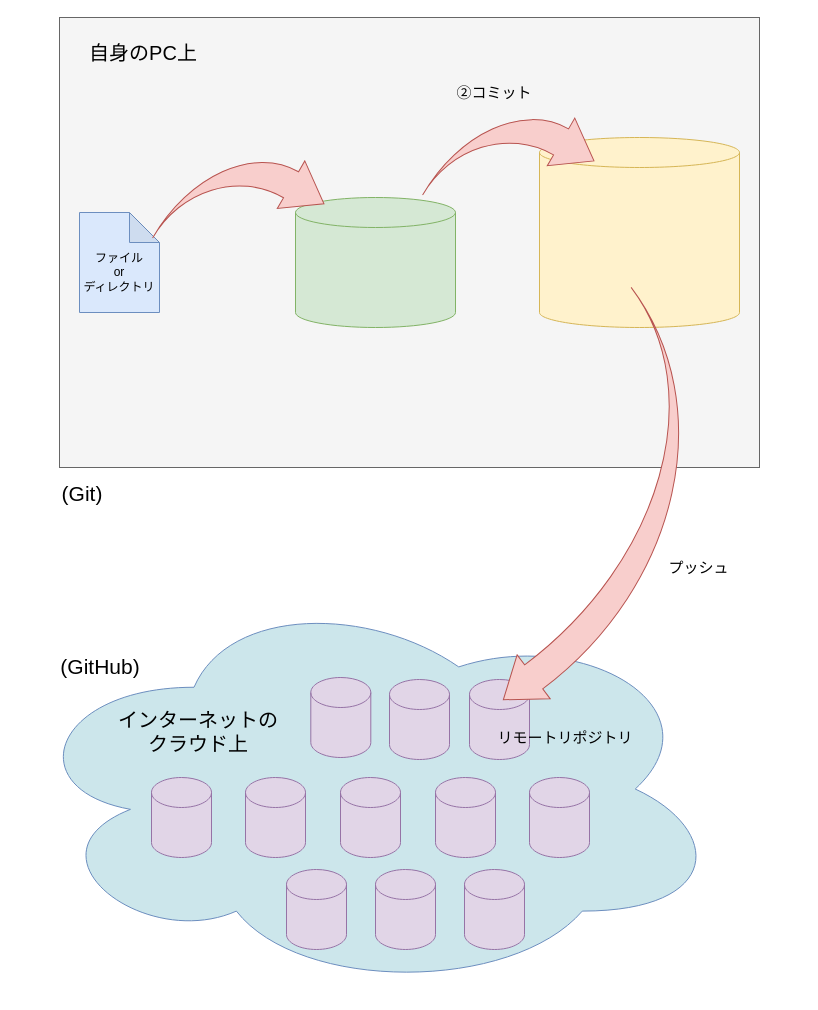
This 818x1010 diagram has some shape labels left out. Each missing label, with the centre of its shape:
①リポジトリ: pixel 639 232
③ステージングエリア (待機用リポジトリ): pixel 375 262
